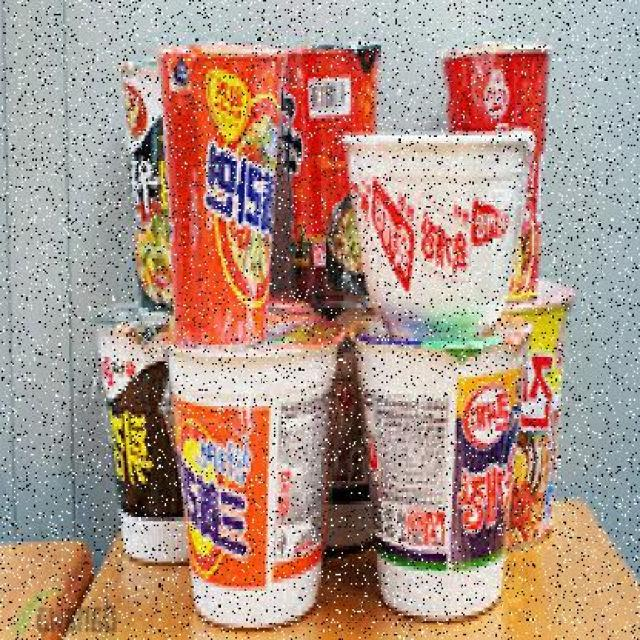Miscellaneous: (348, 323, 529, 620), (167, 315, 336, 623), (346, 126, 534, 331), (437, 280, 572, 558), (165, 45, 284, 347), (100, 306, 226, 562), (440, 34, 552, 288), (122, 56, 213, 324), (290, 38, 379, 302)
